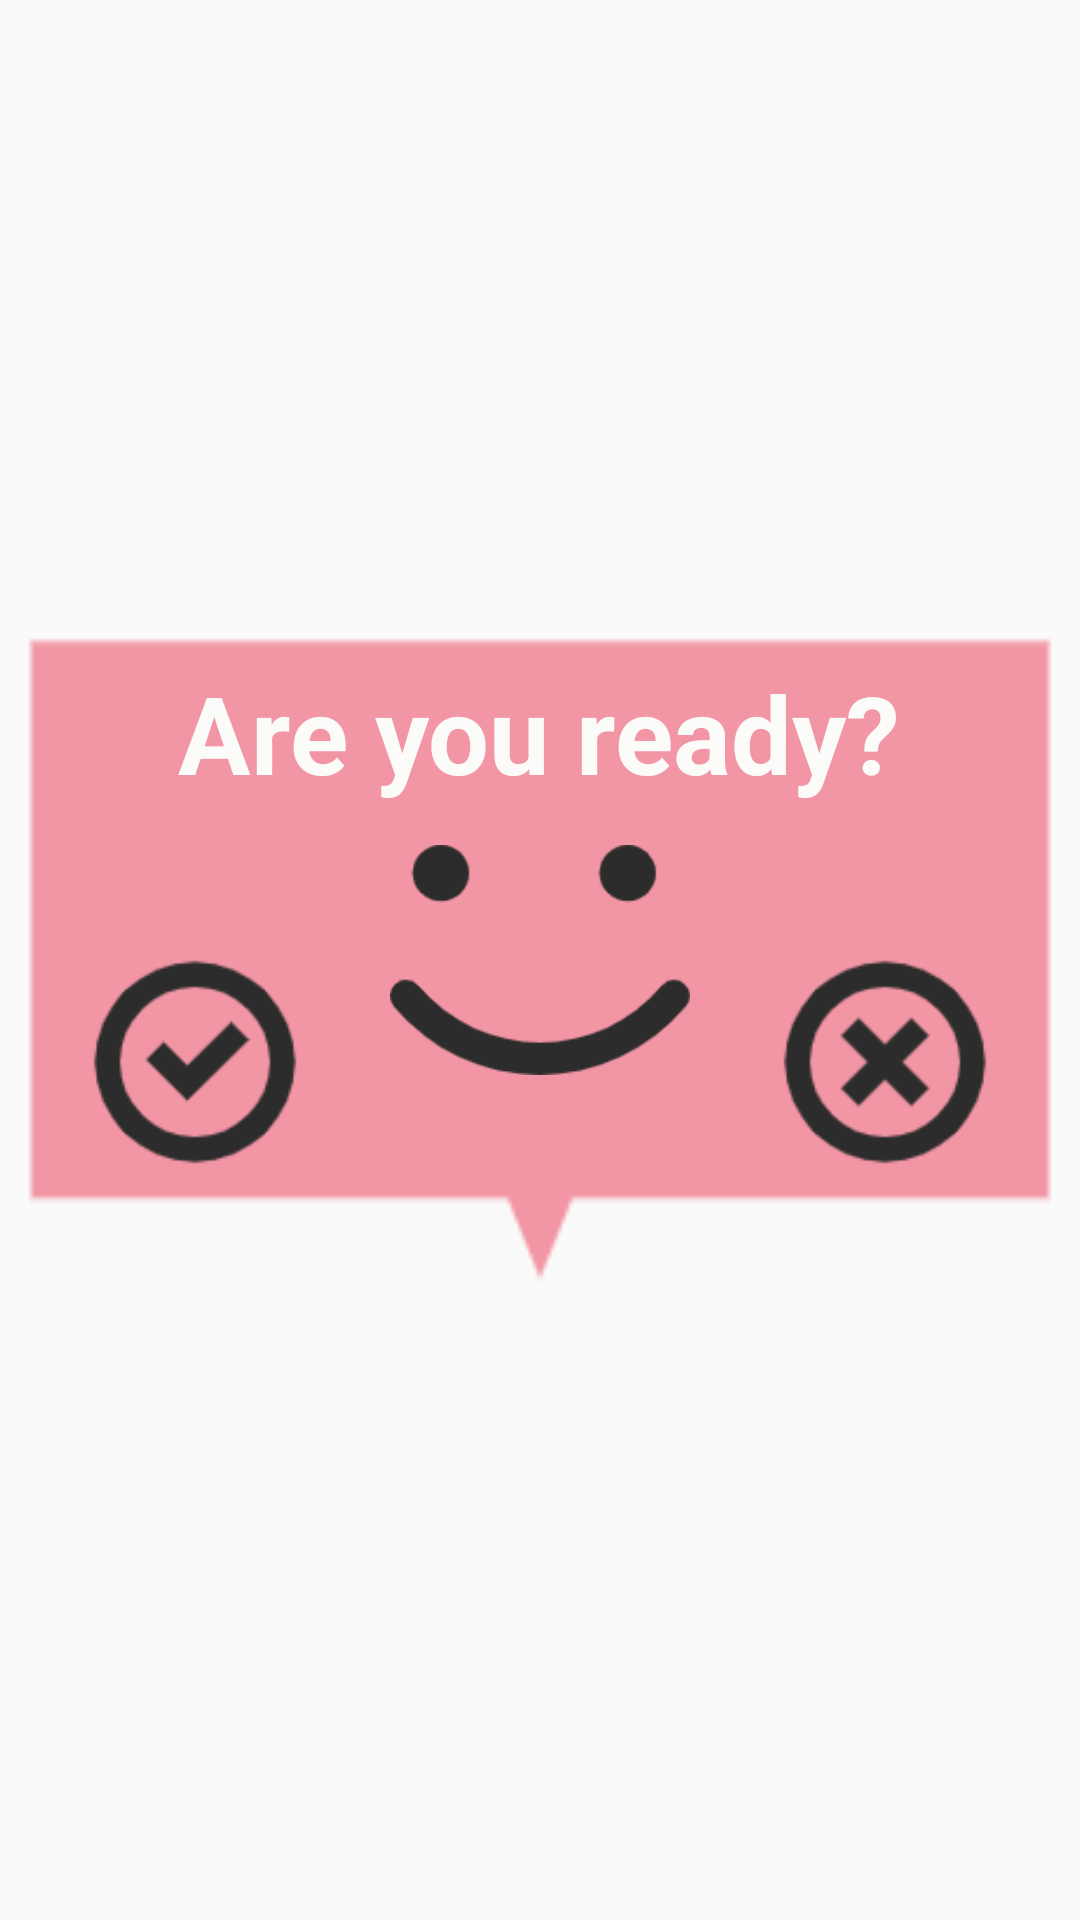

Named icons in this screenshot (1080w x 1920h) and their centers, (x,y):
laugh: (540,960)
yes: (195,1062)
